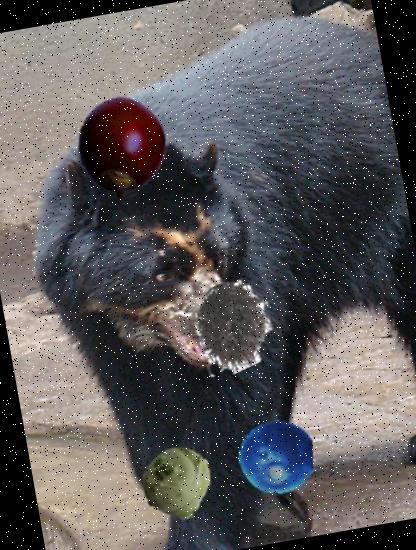Huckleberry: (232, 413, 320, 500)
Kohlrabi: (136, 441, 222, 527)
Rambutan: (181, 274, 284, 378)
Tamarillo: (63, 88, 178, 204)
